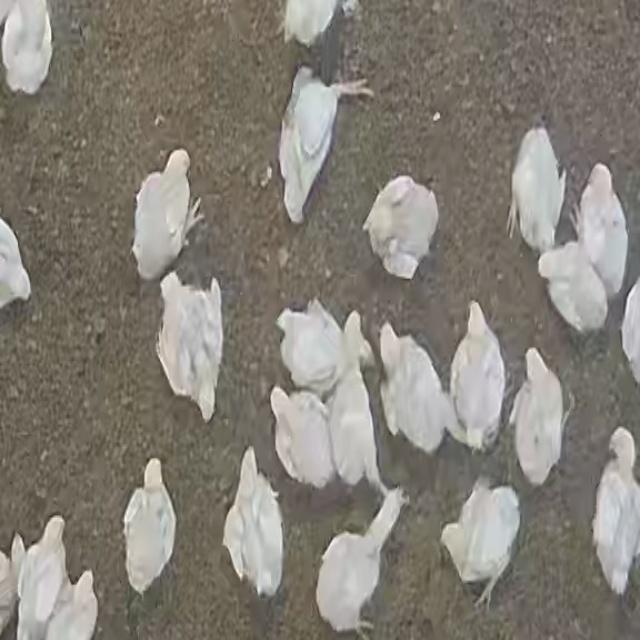chicken: (278, 70, 369, 225), (314, 488, 408, 636), (376, 319, 454, 460), (326, 316, 386, 497), (439, 478, 519, 611), (155, 270, 222, 421), (223, 450, 287, 602), (447, 303, 507, 453), (506, 348, 570, 488), (134, 149, 200, 278), (592, 429, 638, 602), (123, 457, 176, 602), (363, 177, 437, 280), (506, 124, 565, 253), (269, 383, 338, 493), (536, 236, 610, 338), (274, 298, 346, 399), (575, 164, 629, 298), (14, 517, 72, 639), (1, 1, 53, 95), (41, 569, 99, 638), (280, 1, 356, 52), (0, 209, 33, 313)
